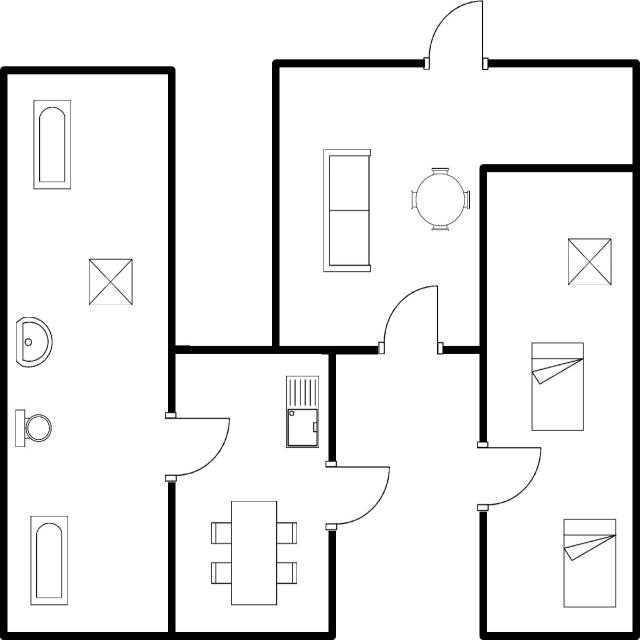bed: (560, 513, 620, 613), (526, 338, 586, 437)
coffee_table: (561, 232, 617, 292), (84, 253, 135, 309)
dining_table: (208, 494, 301, 609)
large_sink: (11, 403, 55, 452)
large_sofa: (319, 144, 375, 278)
round_table: (405, 163, 473, 236)
sink: (280, 371, 322, 453)
small_sink: (12, 312, 56, 374)
tub: (29, 94, 75, 194), (27, 512, 73, 610)
